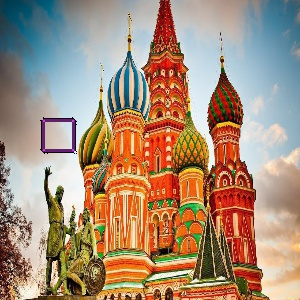square: (39, 116, 78, 154)
